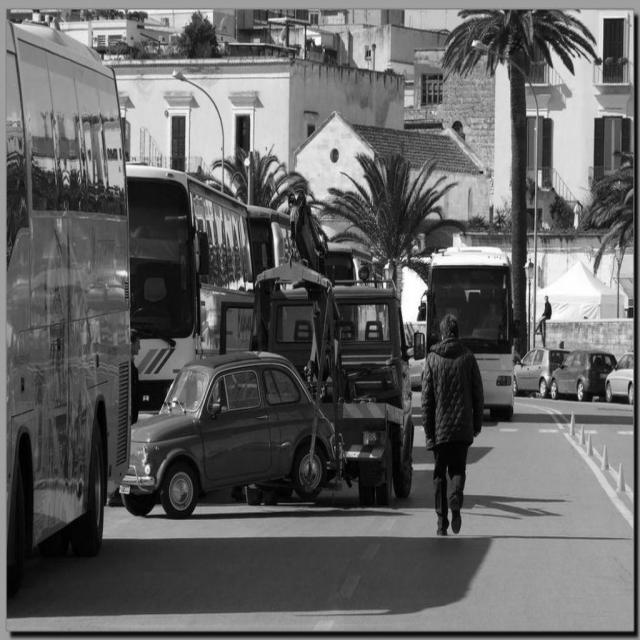other: (117, 346, 336, 519), (552, 347, 618, 401), (512, 339, 567, 402), (606, 350, 636, 406), (408, 352, 431, 390)
